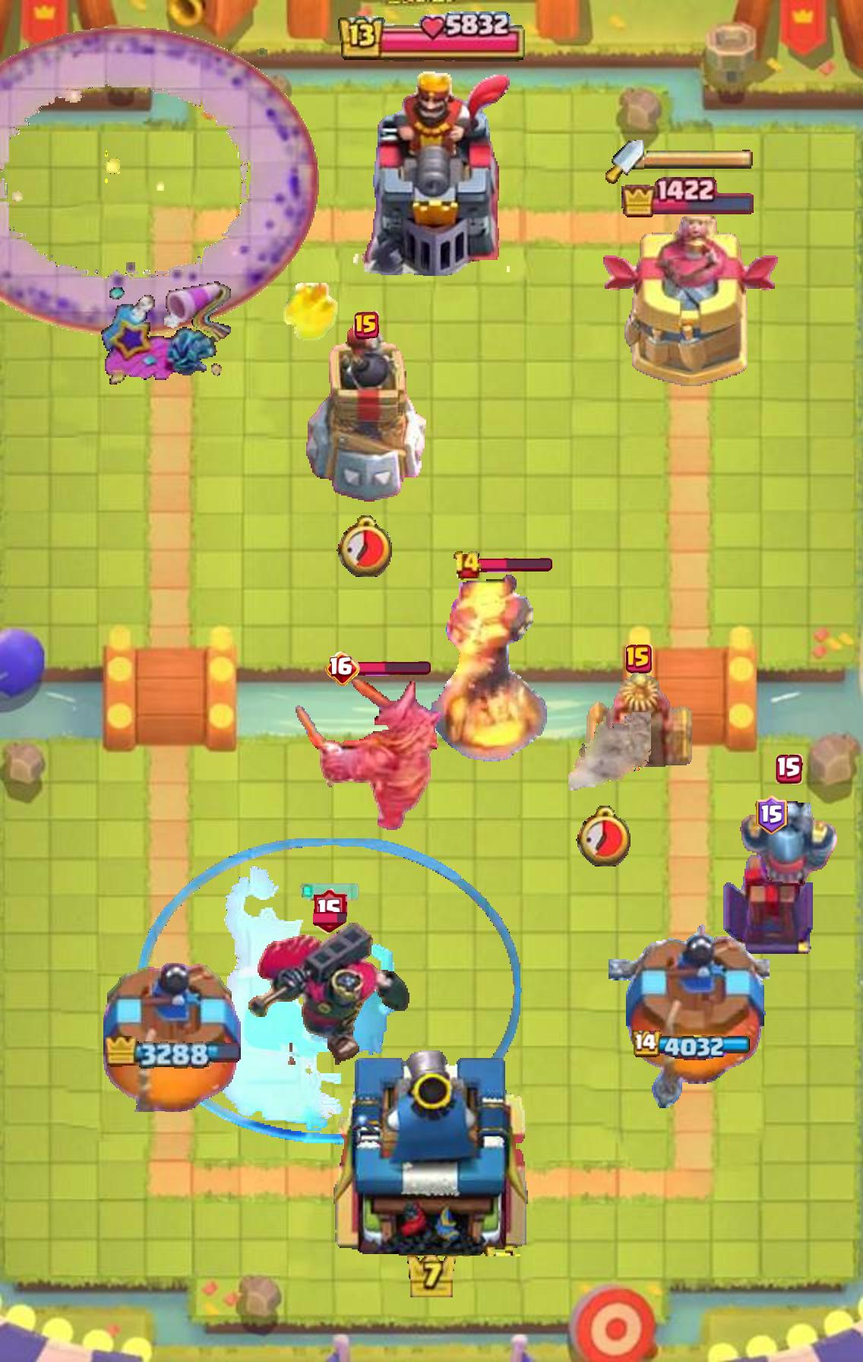bar: (478, 558, 552, 573), (356, 662, 431, 676)
bar-level: (313, 888, 347, 934), (756, 795, 788, 835), (325, 652, 360, 686), (453, 550, 482, 581), (776, 754, 803, 784), (625, 645, 653, 673), (353, 311, 379, 340)
